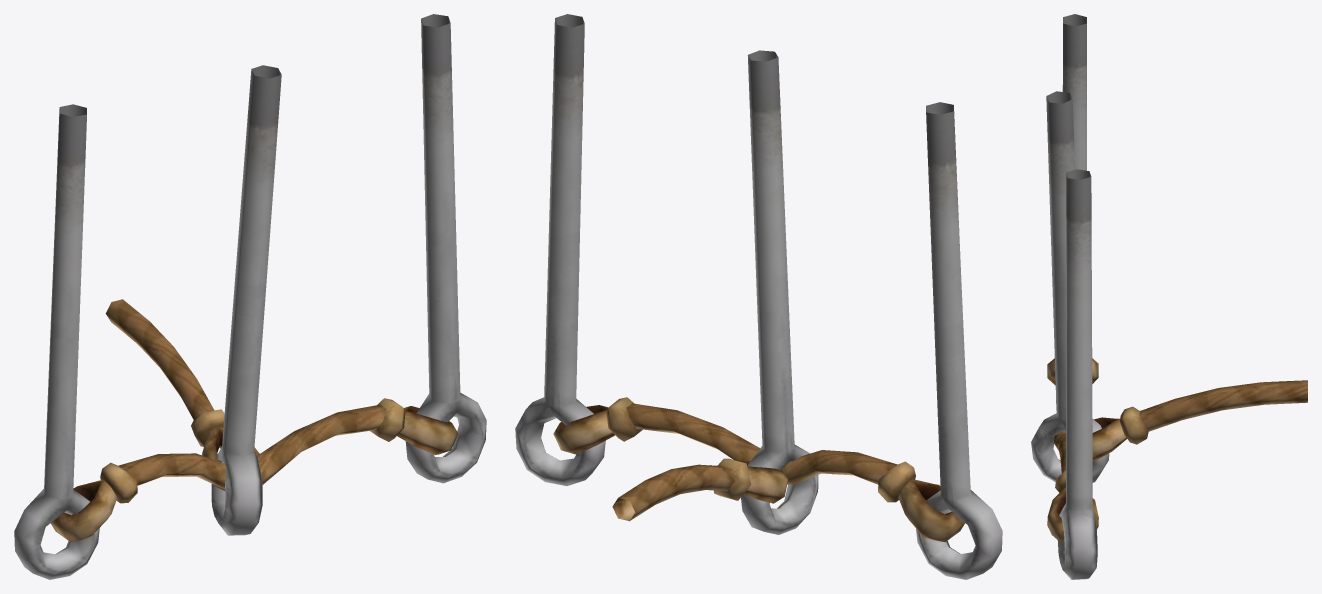
The model's file is fence-rope-i.glb.
3 views of the same model, side by side, from view 1: azimuth 30°, elevation 25°; view 2: azimuth 150°, elevation 25°; view 3: azimuth 270°, elevation 25° (orthographic). The views are drawn at different scales.
Parts seen in each view (by area): view 1: FencePegRope__FencePegRope_I_node1; view 2: FencePegRope__FencePegRope_I_node1; view 3: FencePegRope__FencePegRope_I_node1.
Boxes of the visible parts, box(x1,y1,x2,y2) form: FencePegRope__FencePegRope_I_node1: box(14, 14, 486, 579); FencePegRope__FencePegRope_I_node1: box(515, 14, 1002, 579); FencePegRope__FencePegRope_I_node1: box(1031, 14, 1307, 579).
Size of the model in its own units: 0.9966 by 0.934 by 0.5884.
Materials: 1 (1 with a texture image).
